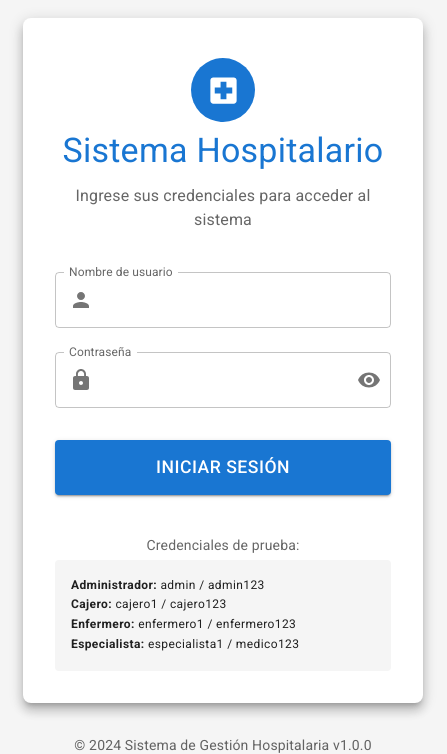
Test: Login Component › shows validation error for short username
Type "ab" into the field labelled "Nombre de usuario" at [246, 300], box [101,272,391,328]
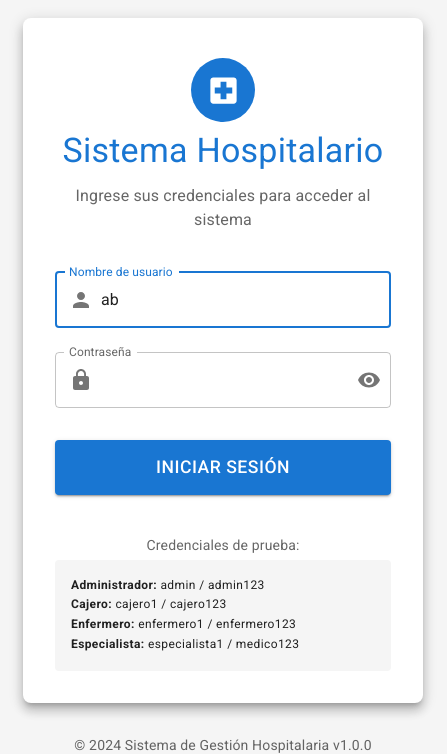
Click the button "Iniciar Sesión" at [223, 467], box [55,440,391,495]
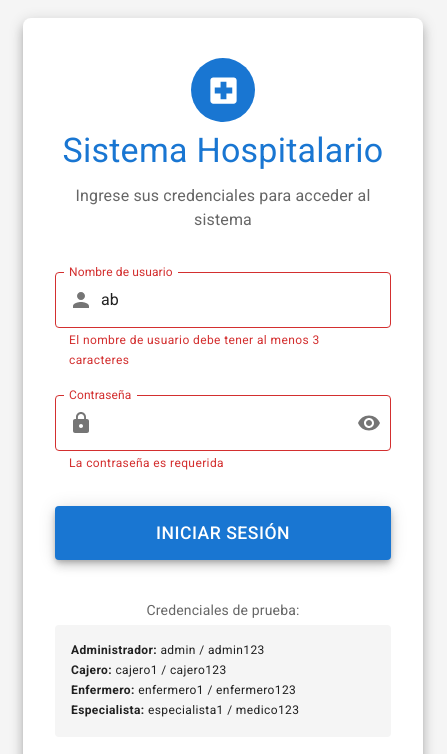
Check: the text "El nombre de usuario debe tener al menos 3 caracteres" is shown, box [69,333,320,367]
